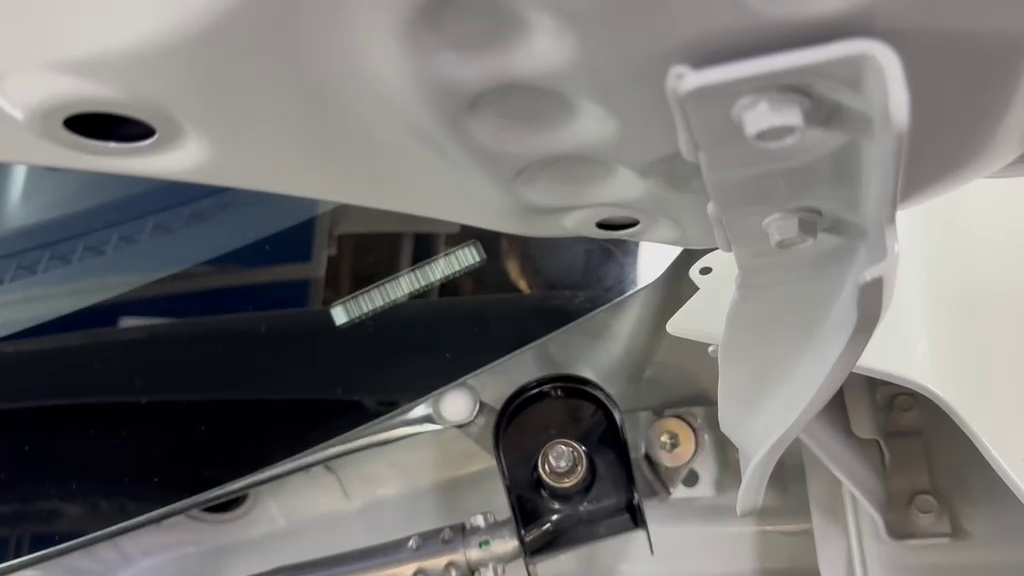barcode: (467, 366, 671, 576)
hinge: (308, 223, 509, 344)
